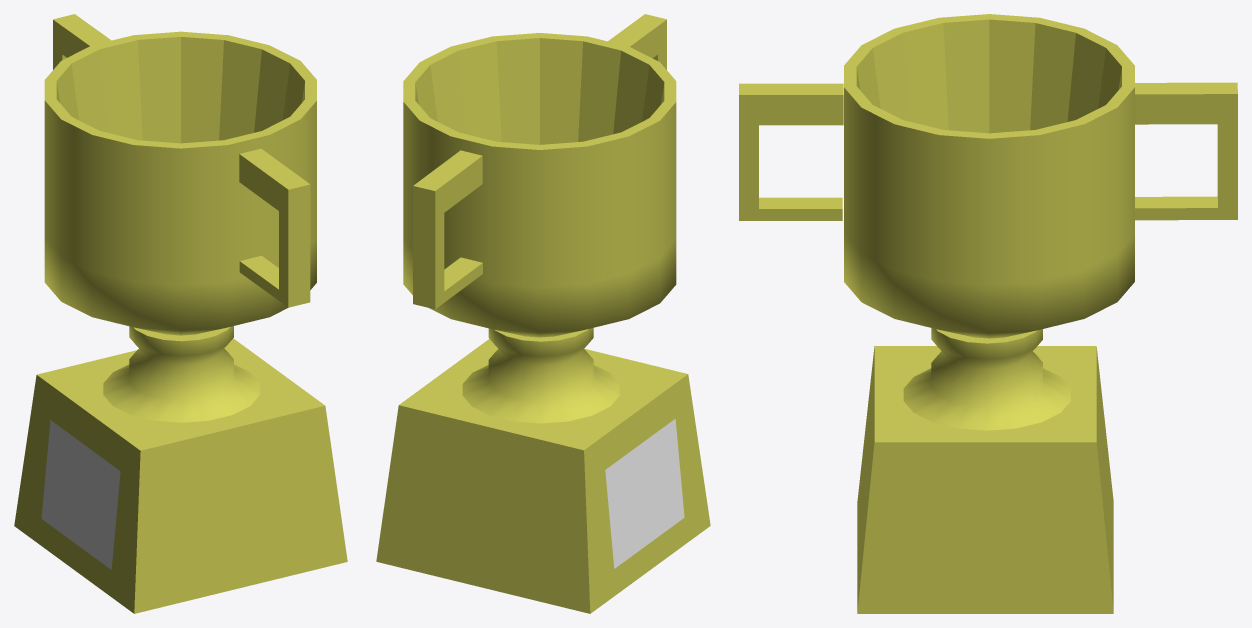
The model's file is Trophy.fbx.
3 renders of one model, left to right at view 1: azimuth 30°, elevation 25°; view 2: azimuth 150°, elevation 25°; view 3: azimuth 270°, elevation 25°, orthographic. The views are drawn at different scales.
Parts seen in each view (by area): view 1: Trophy Base; view 2: Trophy Base; view 3: Trophy Base.
Boxes of the visible parts, left/top/right/bottom form: Trophy Base: left=14, top=14, right=347, bottom=613; Trophy Base: left=376, top=14, right=710, bottom=613; Trophy Base: left=739, top=14, right=1237, bottom=613.
Size of the model in its own units: 22.29 by 40.2 by 37.64.
